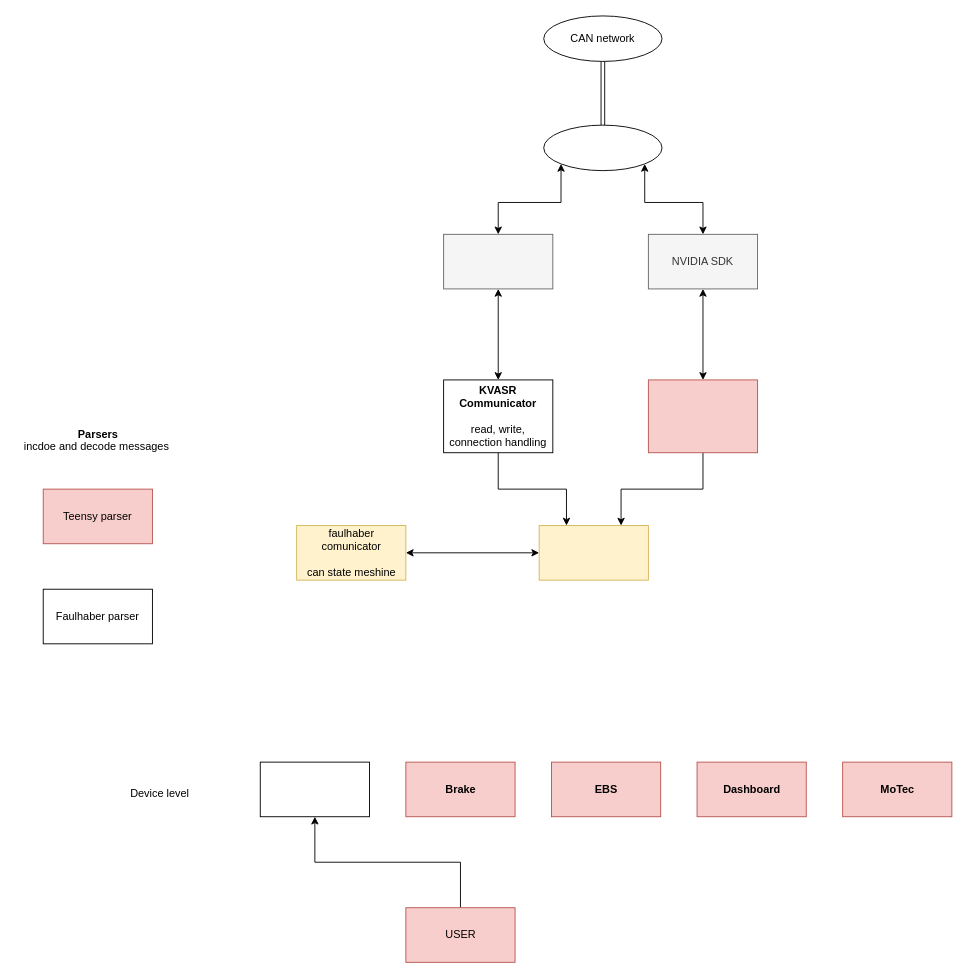
Some shapes in this 967 by 978 pixel diagram are drawn without their labels. The centre of each missing label's shape, as x and y in pixels:
"CANbus hardware" goes at point 602,147.
"KVASR SDK" goes at point 498,261.
"Manager" goes at point 593,552.
"NVIDIA Communicator read, write, connection handling" goes at point 702,416.
"Steering" goes at point 314,789.
